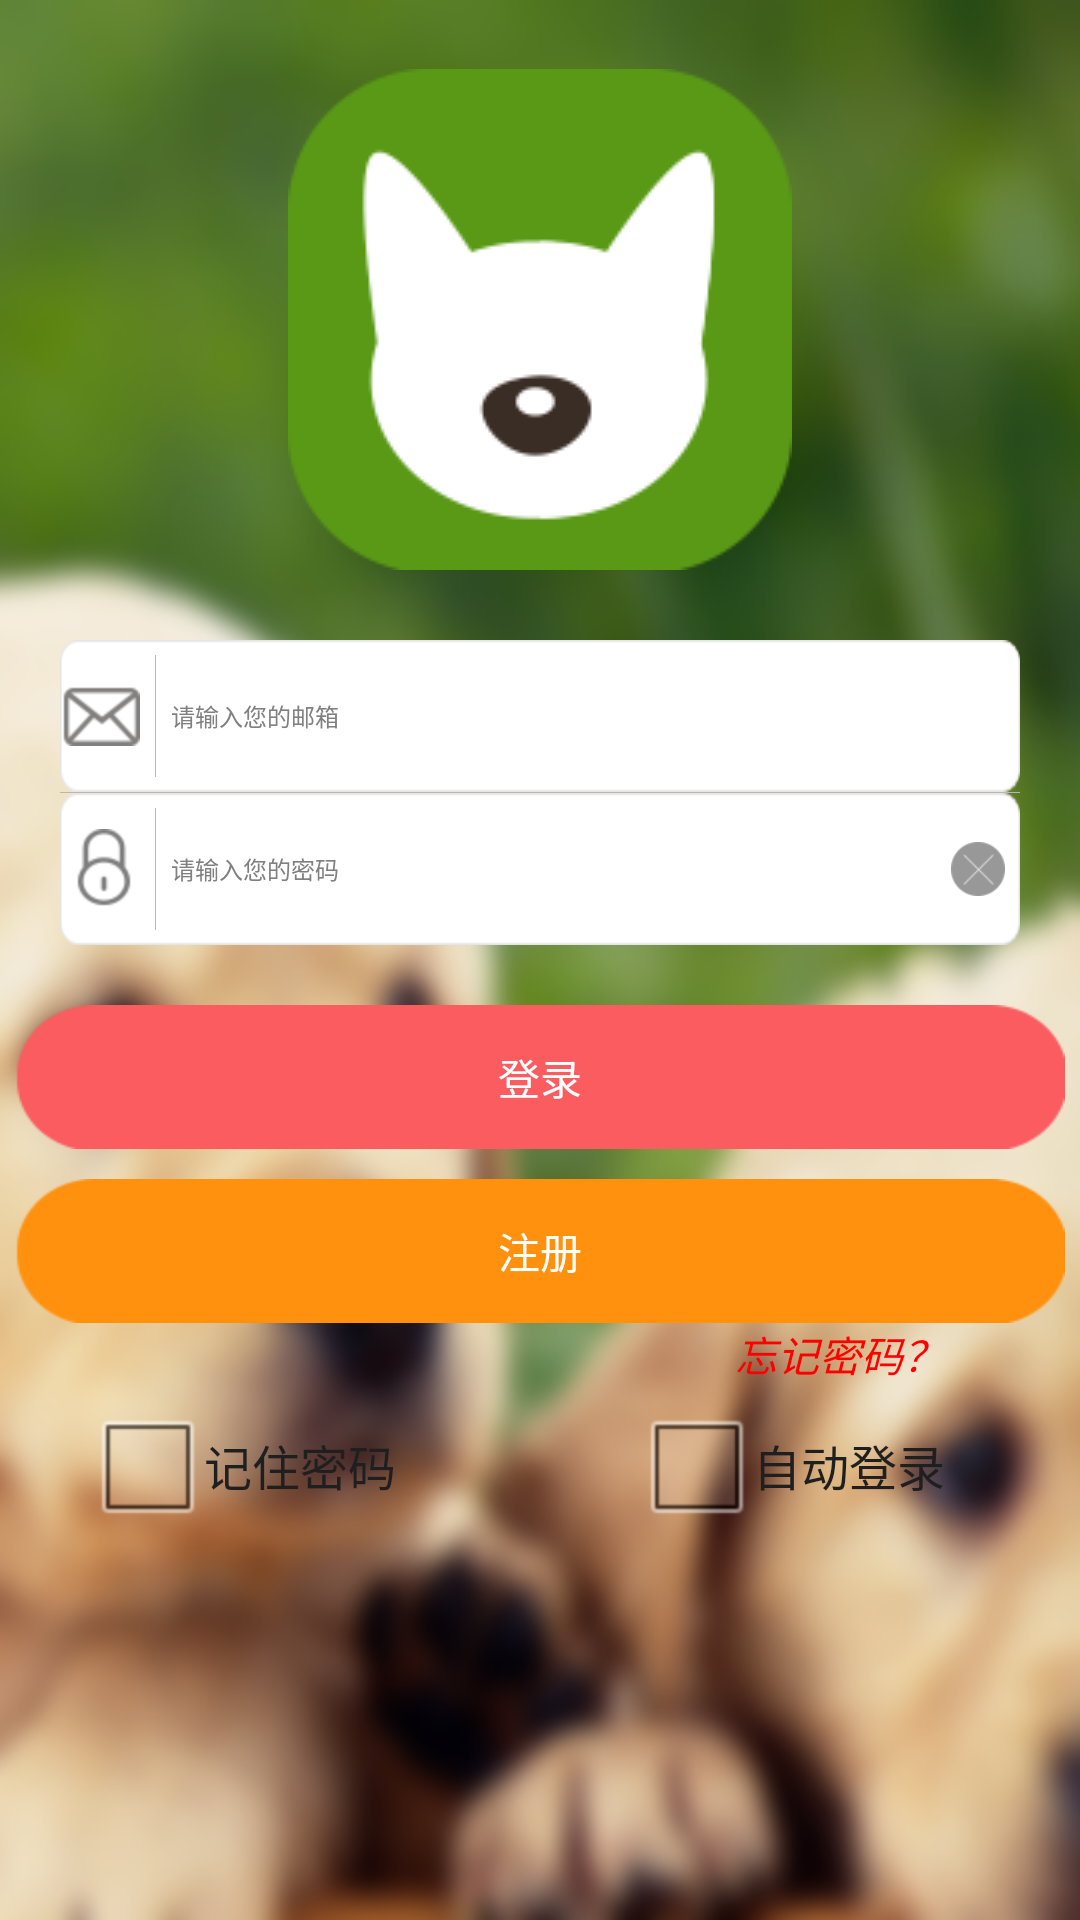

Where to tap for icons on this 1080 × 1920 app screen, as [x,y]:
login email: [101,716]
密码锁: [104,867]
